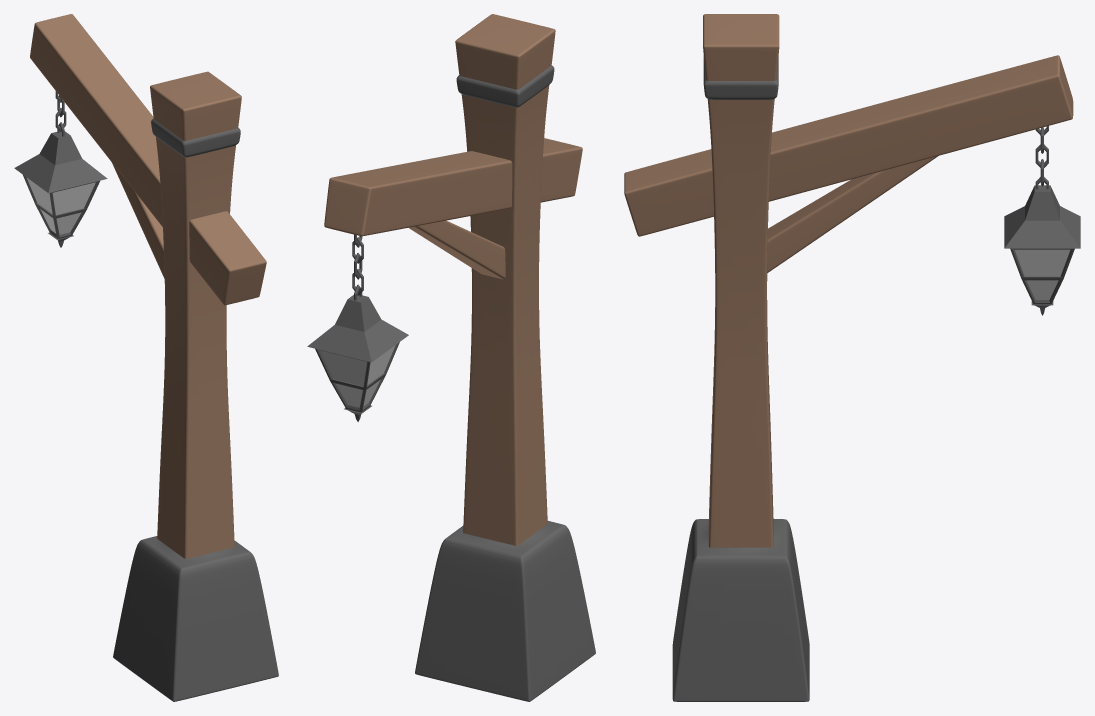
Rendered from wooden_lantern.glb.
3 renders of one model, left to right at view 1: azimuth 30°, elevation 25°; view 2: azimuth 150°, elevation 25°; view 3: azimuth 270°, elevation 25°, orthographic. The views are drawn at different scales.
Parts seen in each view (by area): view 1: Object_3, Object_4, Object_2, Object_6, Object_5; view 2: Object_3, Object_4, Object_2, Object_6, Object_5; view 3: Object_3, Object_2, Object_4, Object_6, Object_5.
Boxes of the visible parts, box(x1,y1,x2,y2) form: Object_3: box(33, 14, 266, 556); Object_4: box(14, 91, 276, 701); Object_2: box(30, 15, 265, 558); Object_6: box(27, 178, 95, 234); Object_5: box(113, 119, 278, 680); Object_3: box(324, 14, 582, 543); Object_4: box(307, 65, 595, 697); Object_2: box(325, 16, 582, 545); Object_6: box(320, 345, 395, 407); Object_5: box(456, 67, 554, 701); Object_3: box(624, 14, 1073, 547); Object_2: box(624, 14, 1073, 547); Object_4: box(672, 59, 1080, 701); Object_6: box(1014, 249, 1070, 299); Object_5: box(672, 57, 809, 701).
Size of the model in its own units: 2.1 by 10.91 by 7.
